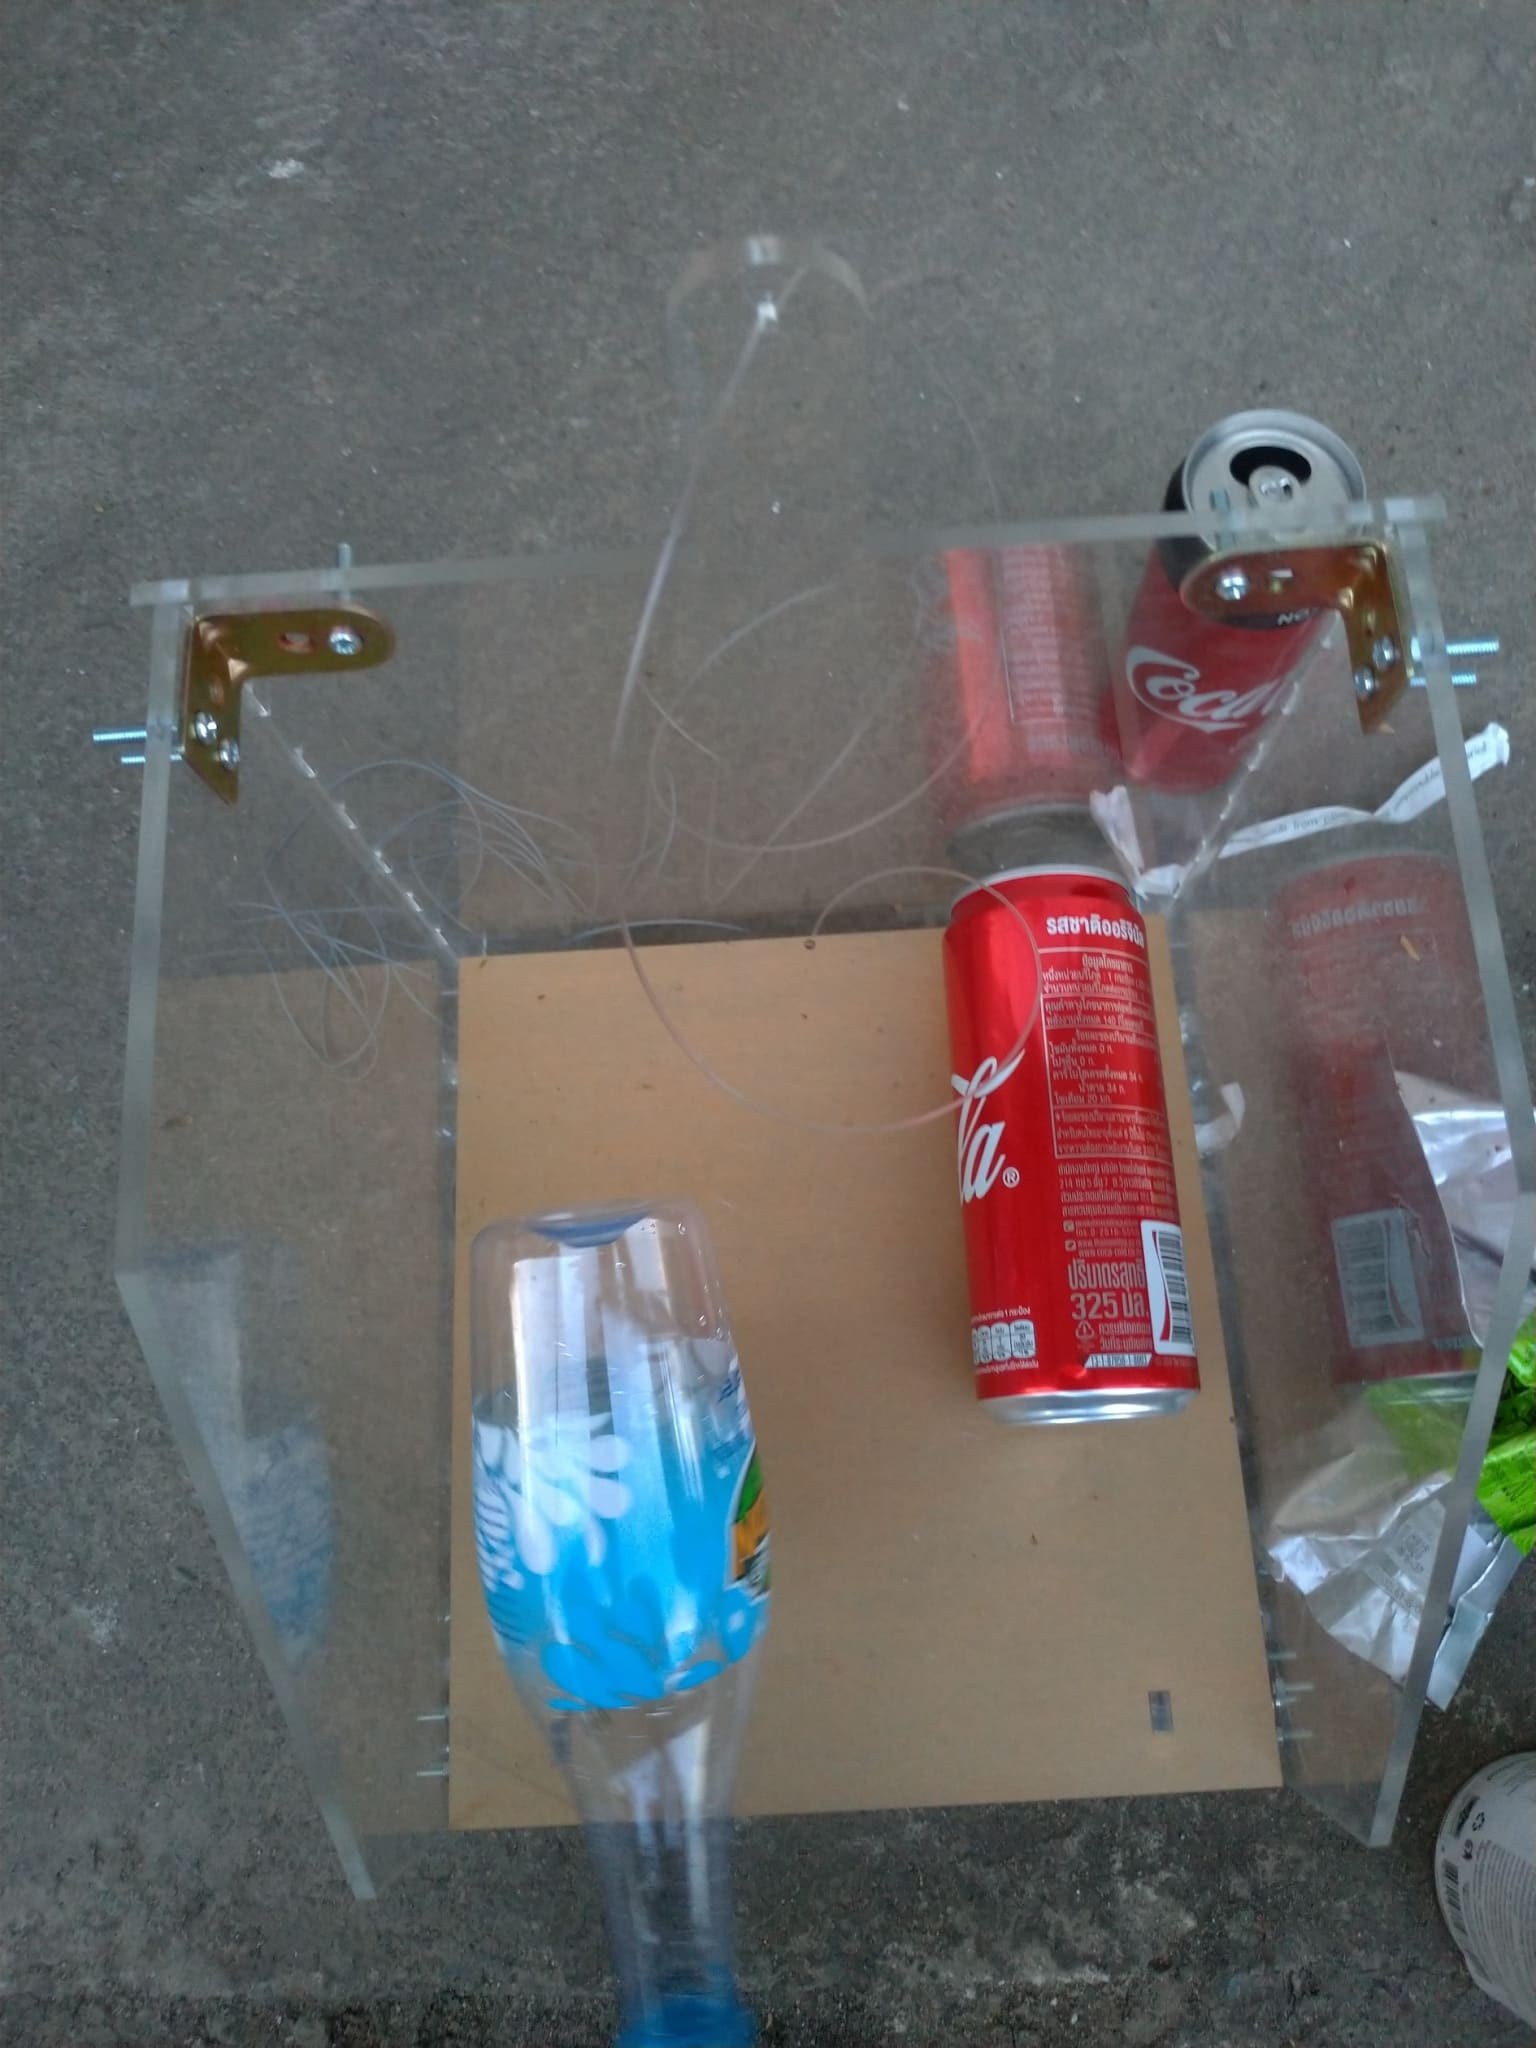AlCan: (944, 868, 1210, 1435), (1091, 414, 1367, 789), (1433, 1748, 1536, 2022)
Others: (1257, 1084, 1530, 1711)
PlasticBottle: (463, 1214, 753, 2037)
